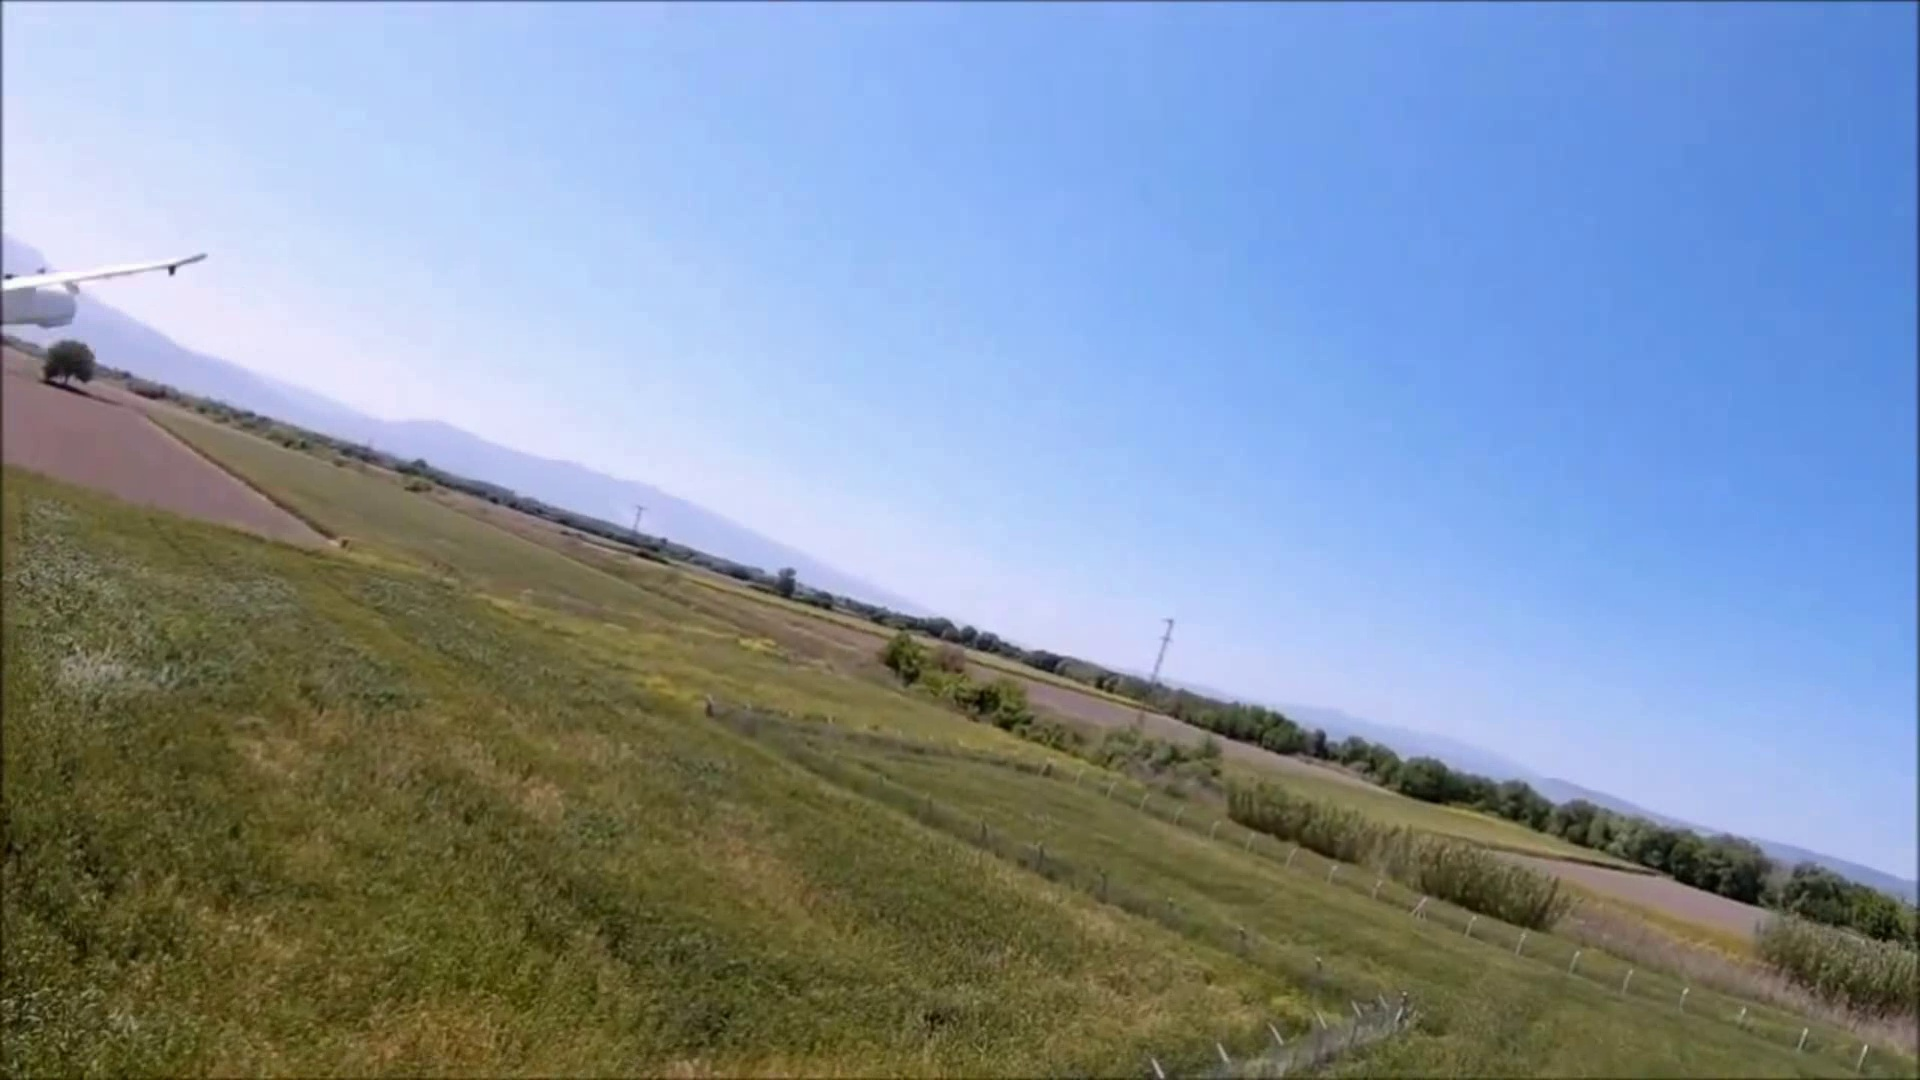airplane: (0, 236, 209, 368)
